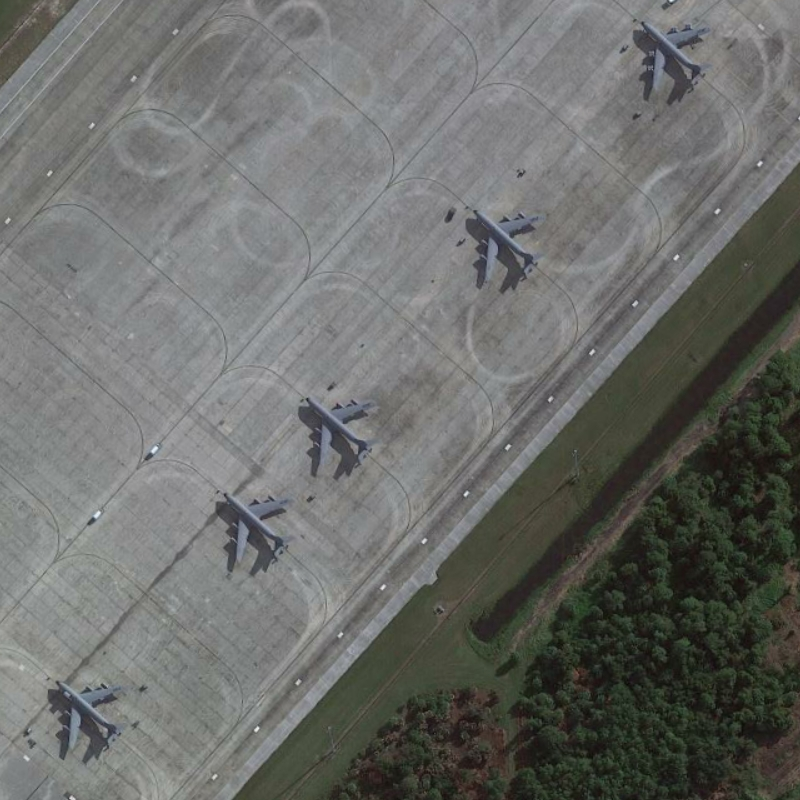A14: (635, 15, 721, 100), (49, 669, 134, 754), (303, 391, 385, 479), (466, 204, 552, 287), (221, 487, 301, 567)
